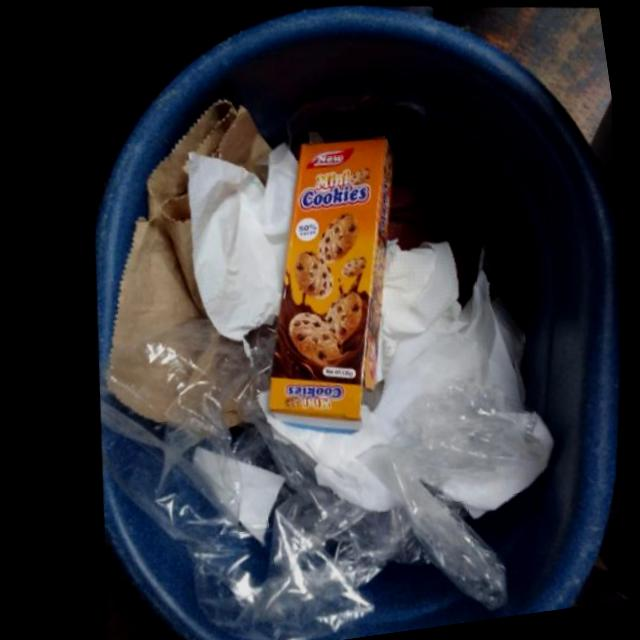carton: (264, 132, 388, 426)
giay: (264, 236, 550, 510), (109, 98, 267, 347), (178, 140, 293, 339)
